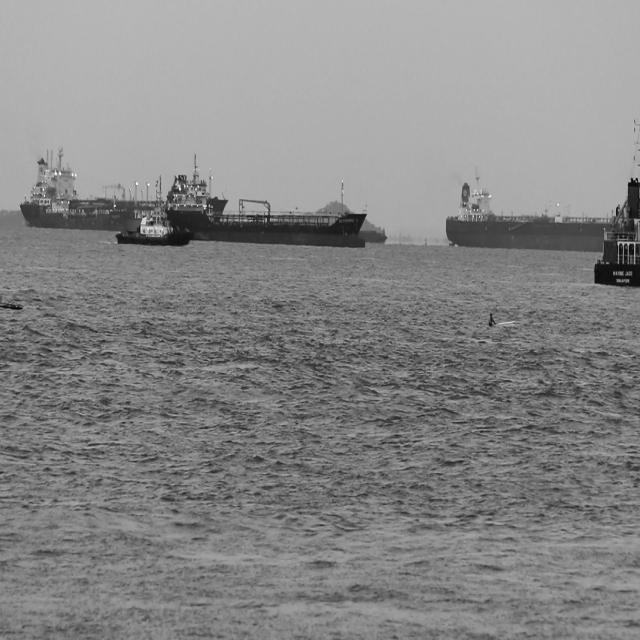ship: (157, 154, 366, 248), (444, 164, 612, 251), (18, 144, 163, 231), (591, 115, 639, 289), (114, 183, 193, 248), (357, 226, 388, 244)
